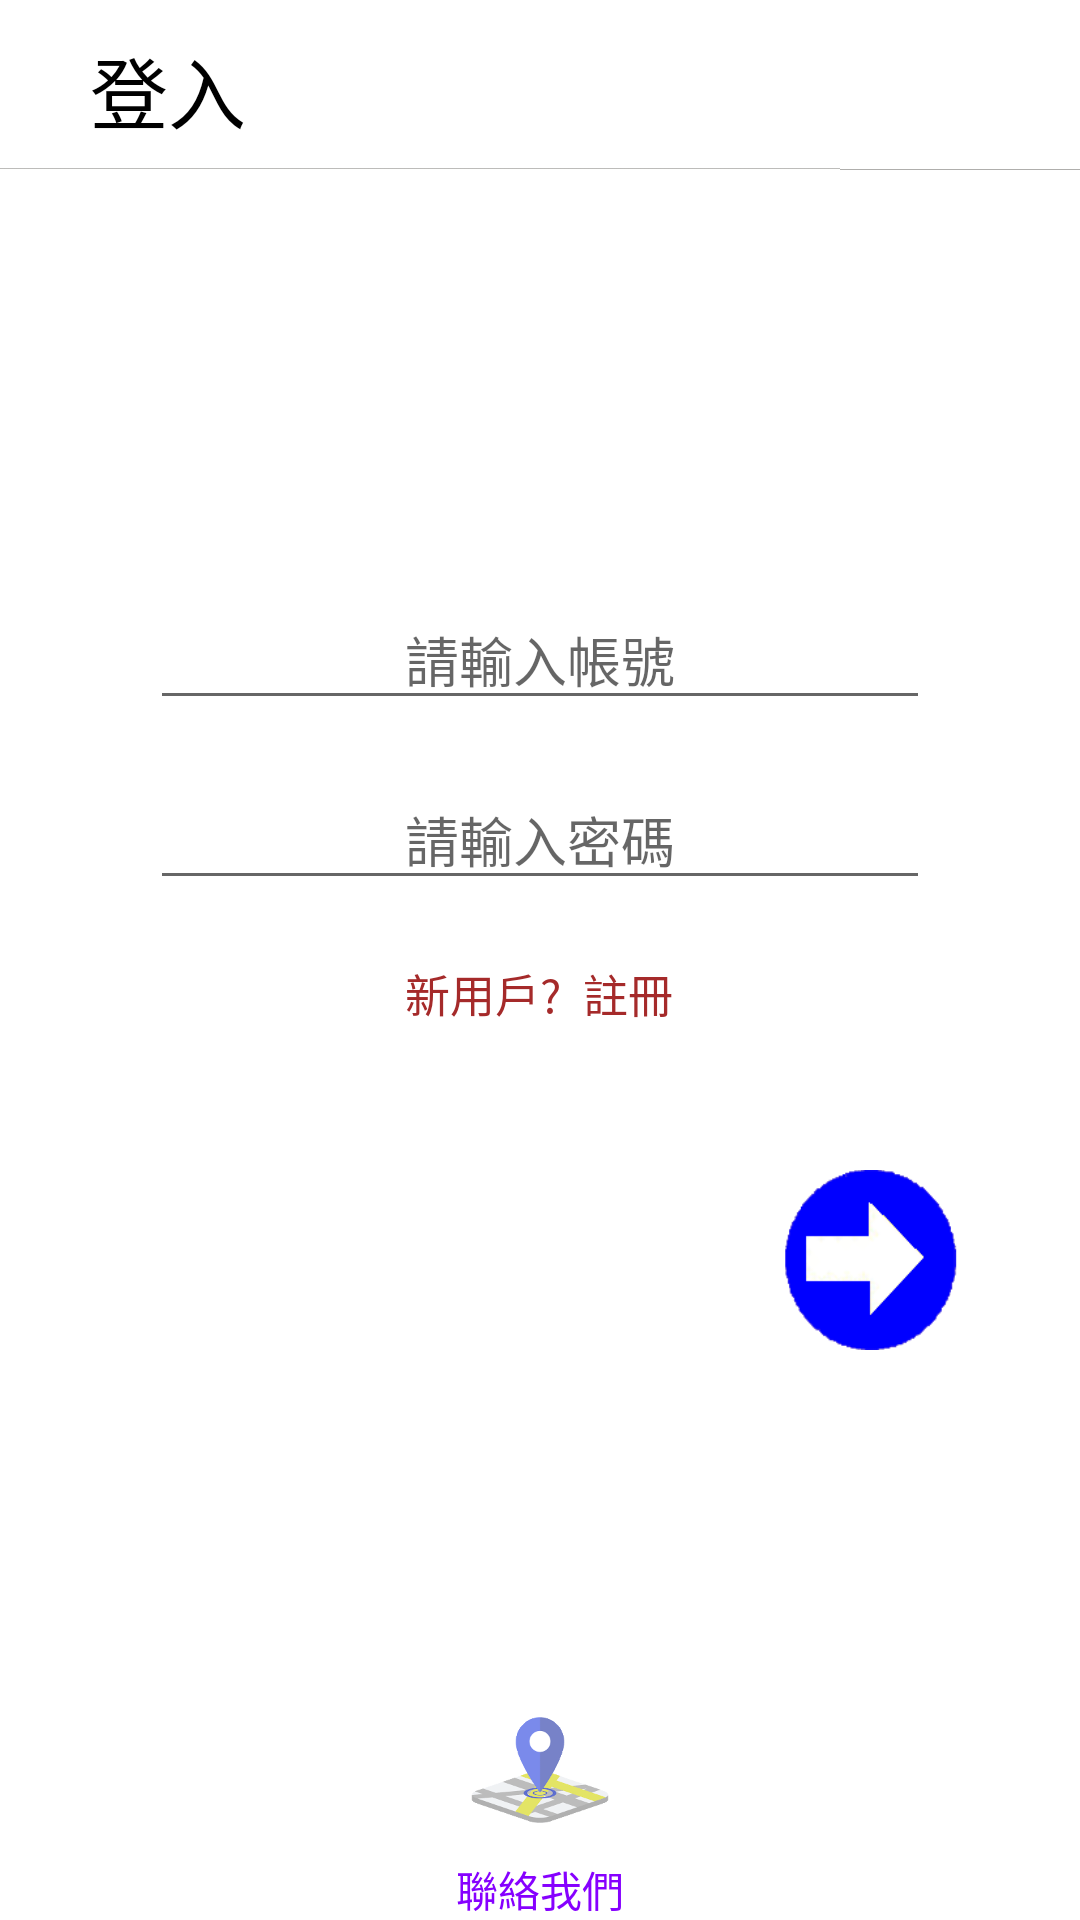

Icon bounding boxes for this 1080×1920 phone screenshot, format (x1, y1, x2, y2):
login: (785, 1170, 957, 1350)
